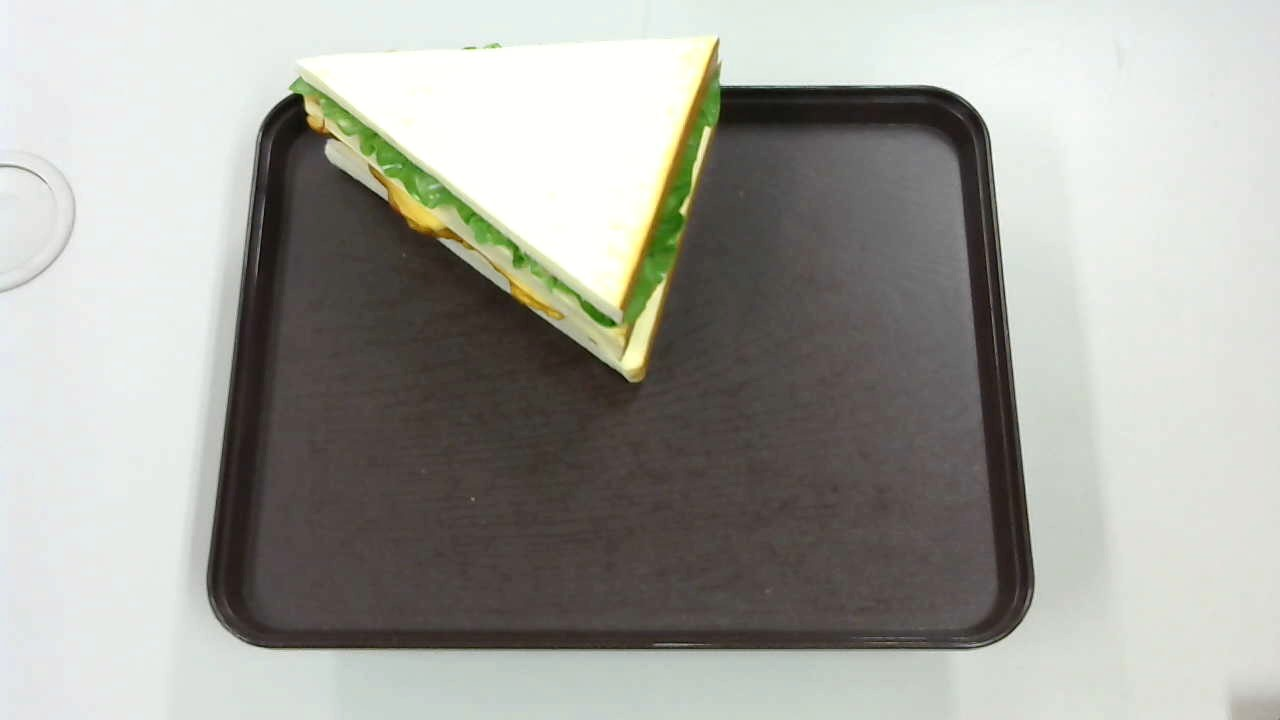sandwich: (290, 37, 721, 385)
